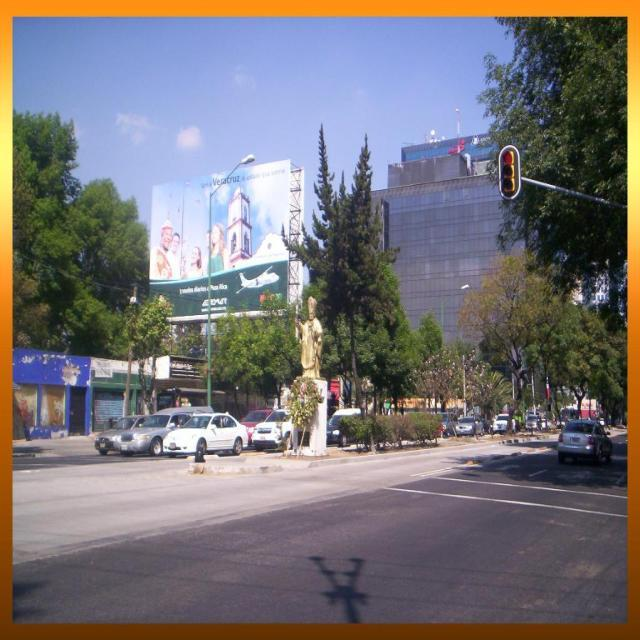traffic light: (498, 143, 521, 201)
